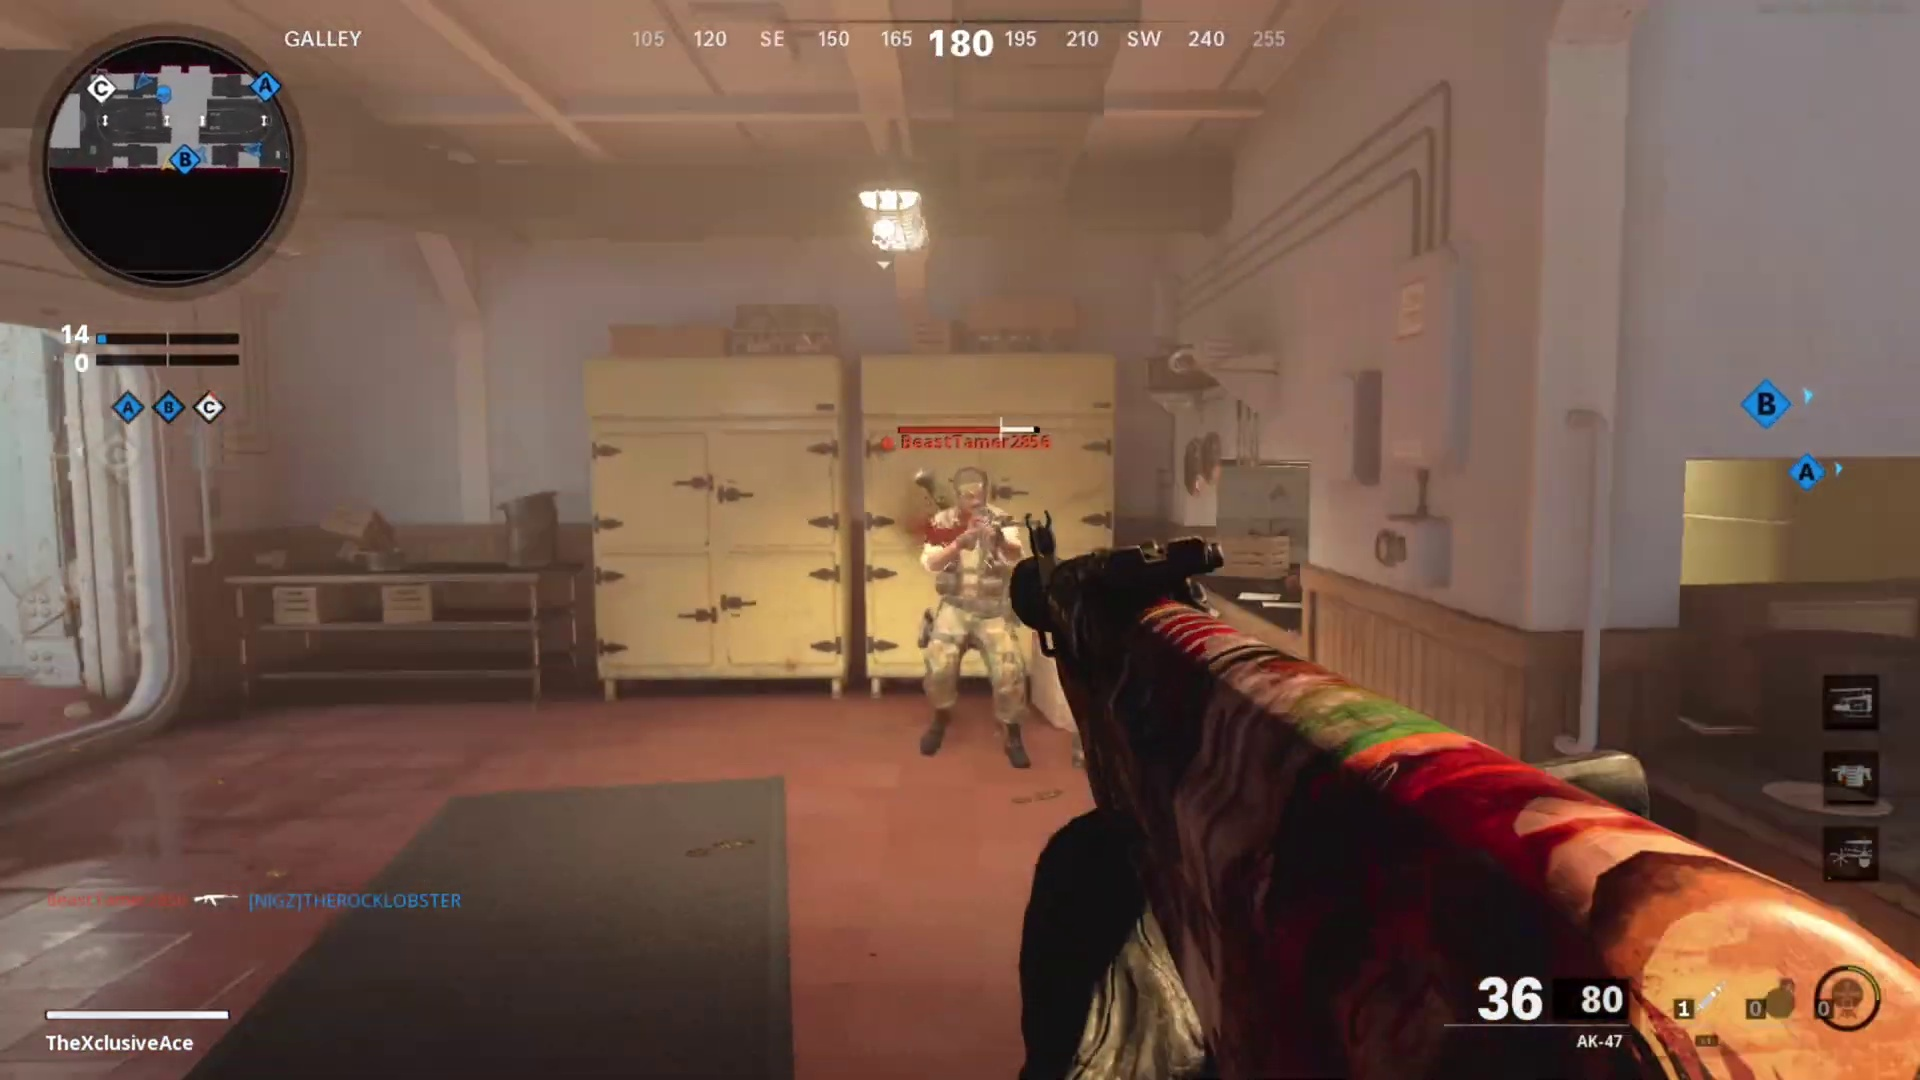head: (945, 466, 994, 530)
person: (912, 465, 1050, 761)
